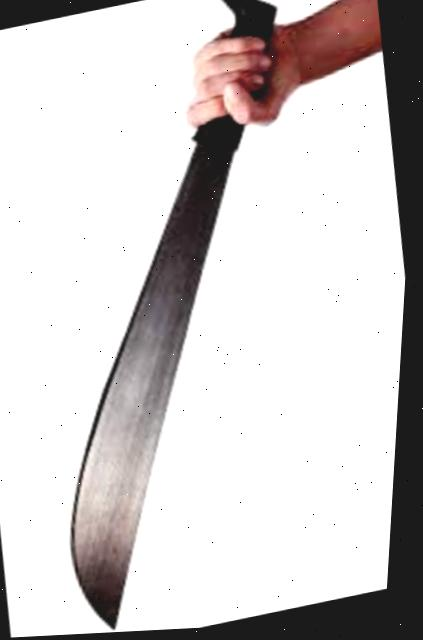long knife: (0, 0, 392, 640)
